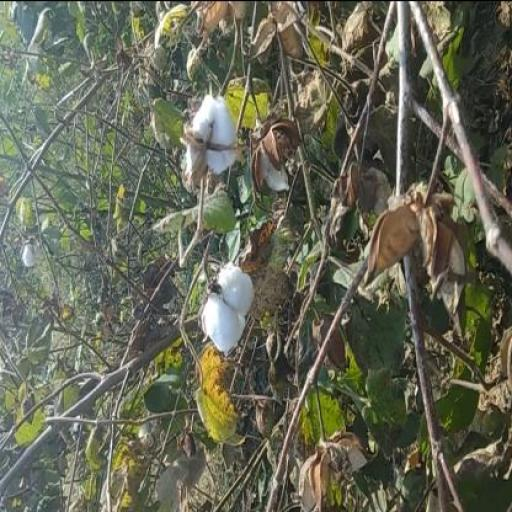cotton_ready: (182, 66, 252, 184), (201, 234, 251, 368)
